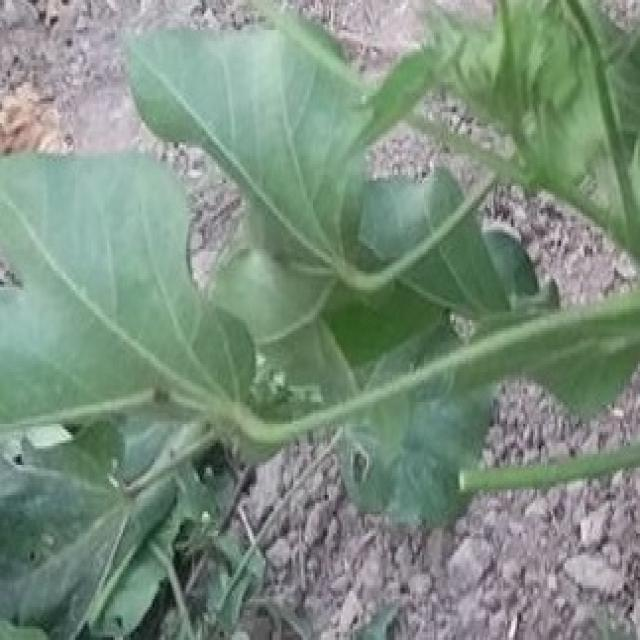Healthy Leaf: (3, 5, 640, 640)
